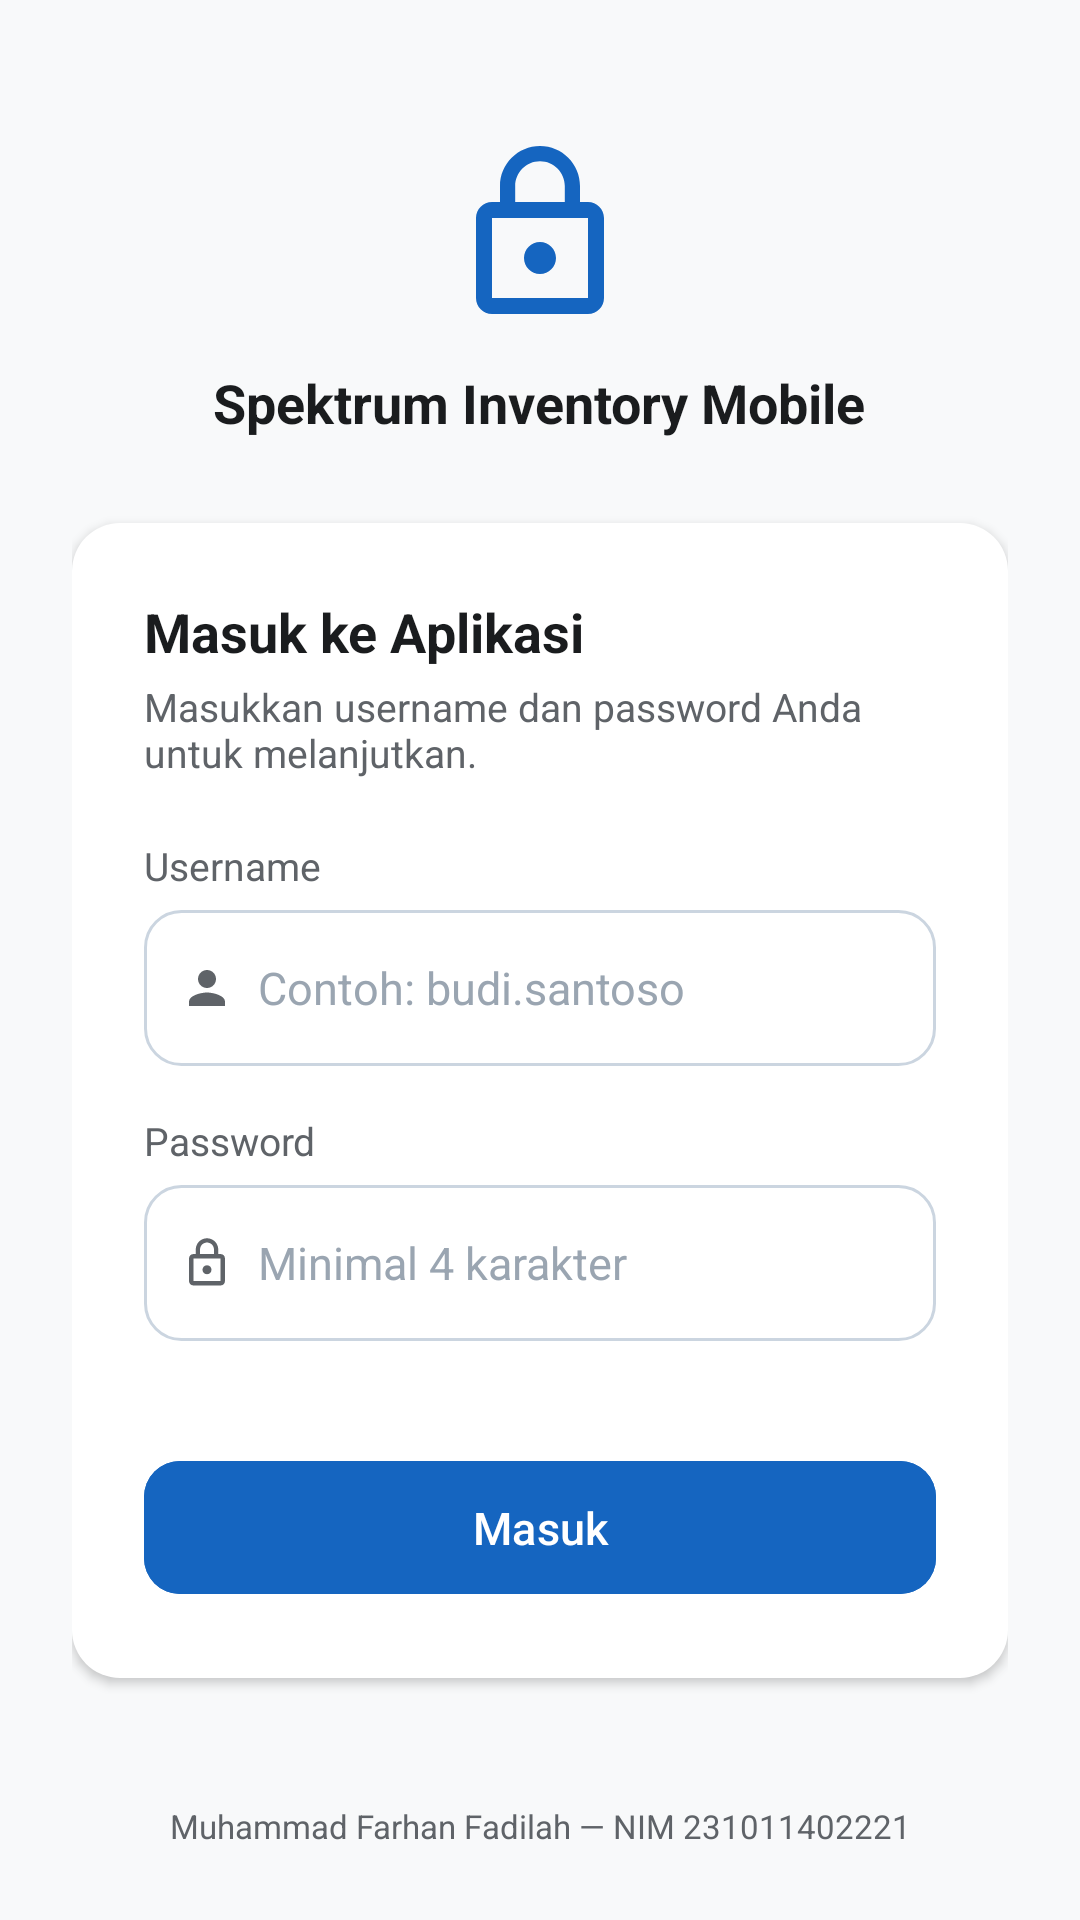

Icon bounding boxes for this 1080px x 1920px phone screenshot, format (x1, y1, x2, y2):
lock: (476, 146, 604, 314), (189, 1238, 225, 1286)
profile: (189, 970, 225, 1006)
